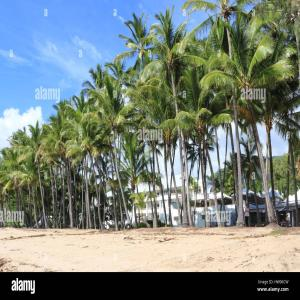palm tree: (198, 17, 296, 227), (140, 4, 205, 227), (84, 76, 142, 230)
